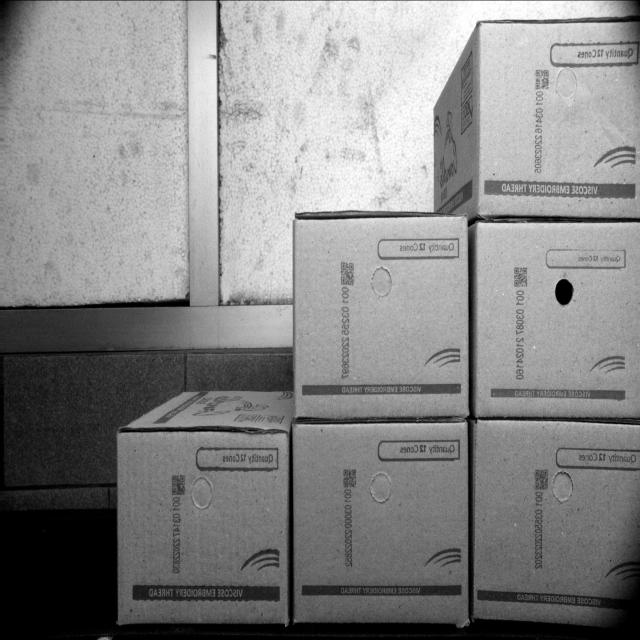cardboxes: (293, 420, 466, 622), (296, 217, 465, 421), (475, 20, 640, 217), (478, 221, 640, 420), (473, 422, 640, 614), (120, 438, 288, 624)
